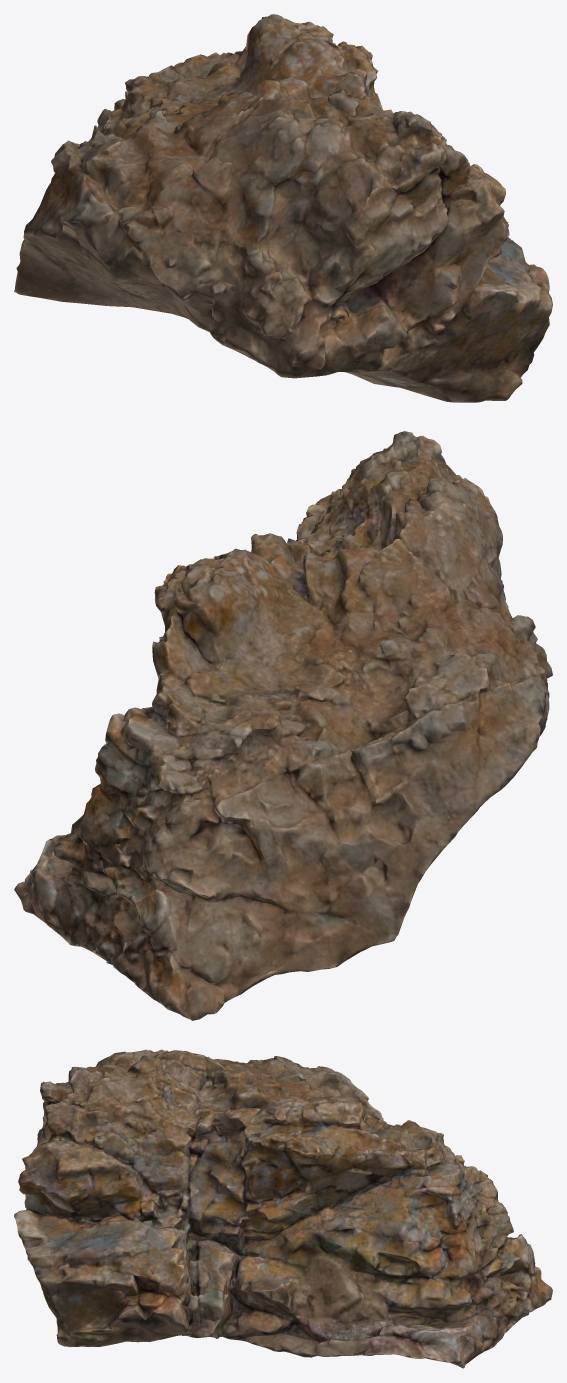
The model's file is boulder_01.glb.
3 views of the same model, one above another, from view 1: azimuth 30°, elevation 25°; view 2: azimuth 150°, elevation 25°; view 3: azimuth 270°, elevation 25° (orthographic). The views are drawn at different scales.
Bounding box in the file's own units: 1.27 × 1 × 1.83.
1 material, 1 textured.
